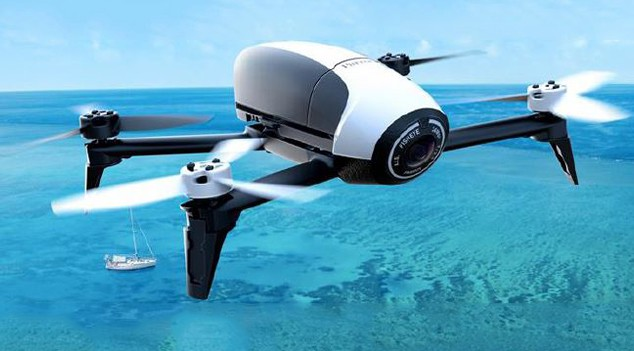maybay_khongnguoilai: (68, 38, 611, 285)
